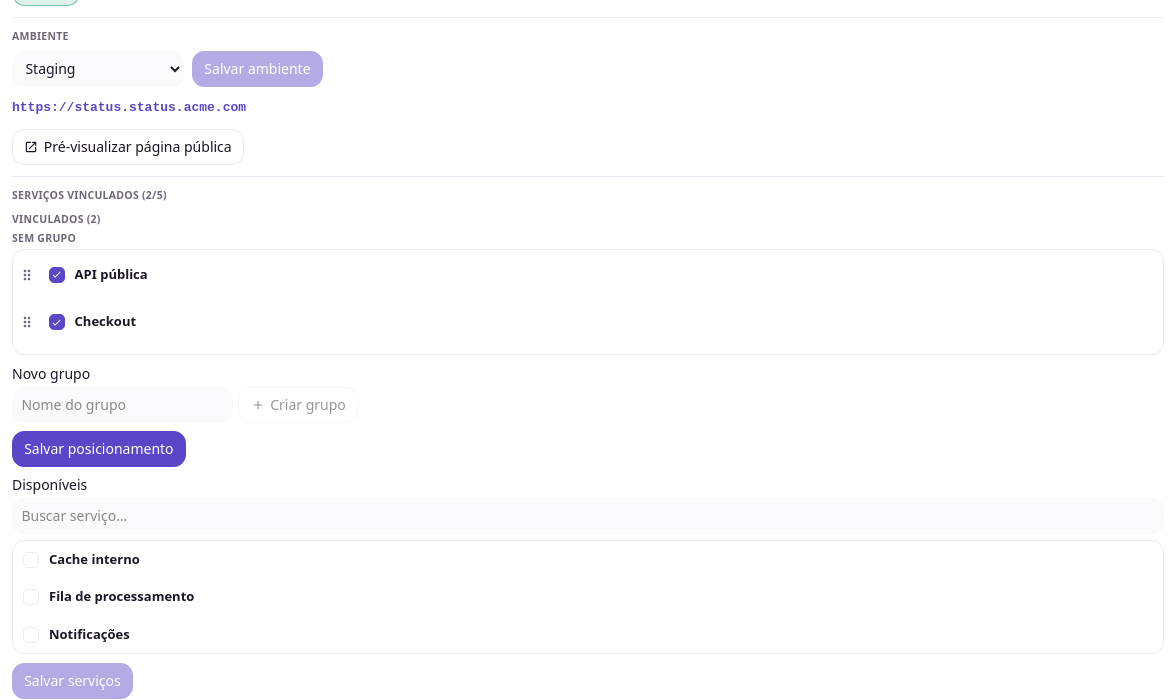
Test case: StatusPageDetail › owner toggles a service and saves, persisting the new set via PATCH (SPD-15)
This screenshot has width=1176, height=700.
Check: the text "Serviços vinculados (2/5)" is shown, box [12,188,167,204]
Check: the button "Salvar serviços" is disabled, box [12,663,133,699]
Click the button "Notificações" at x=89, y=634, box [13,616,1163,653]
(page scrolled)
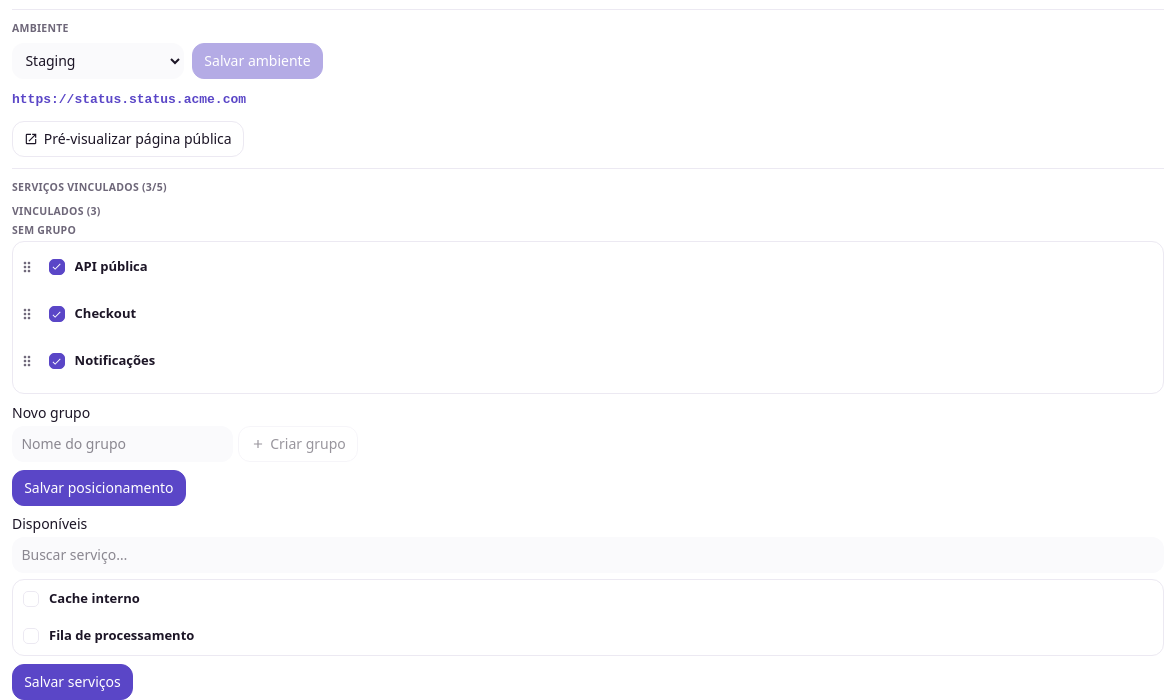
Check: the button "Salvar serviços" is enabled
Click the button "Salvar serviços" at x=72, y=682, box [12,664,133,699]
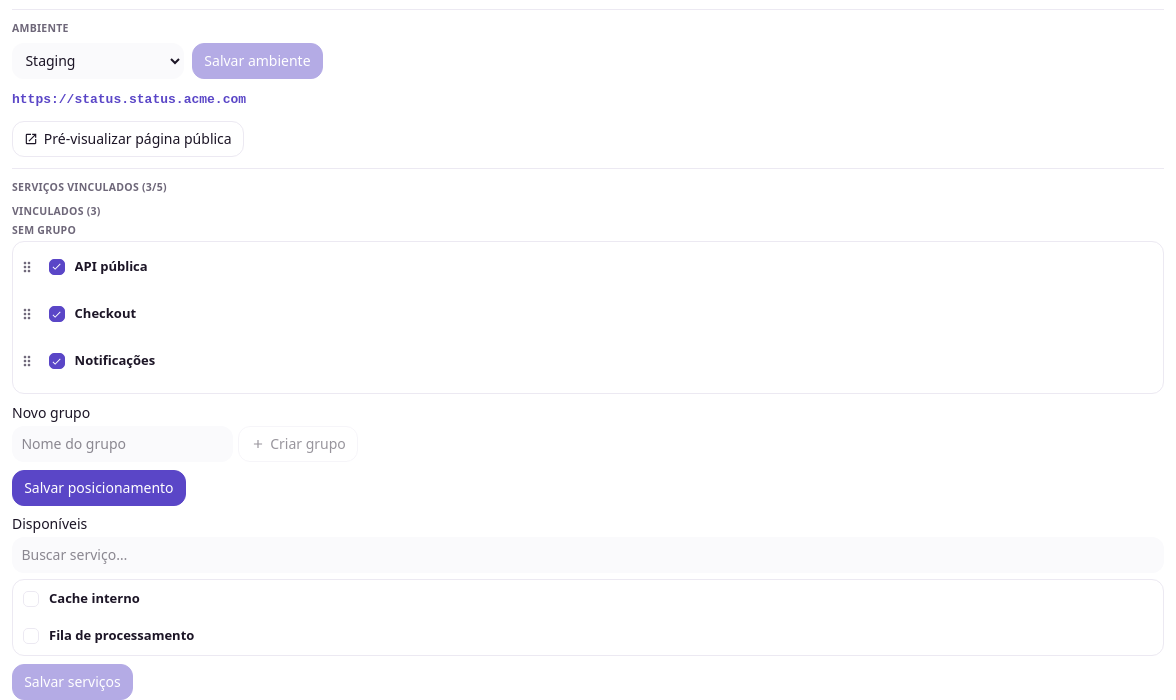
Check: the button "Salvar serviços" is disabled, box [12,664,133,699]
